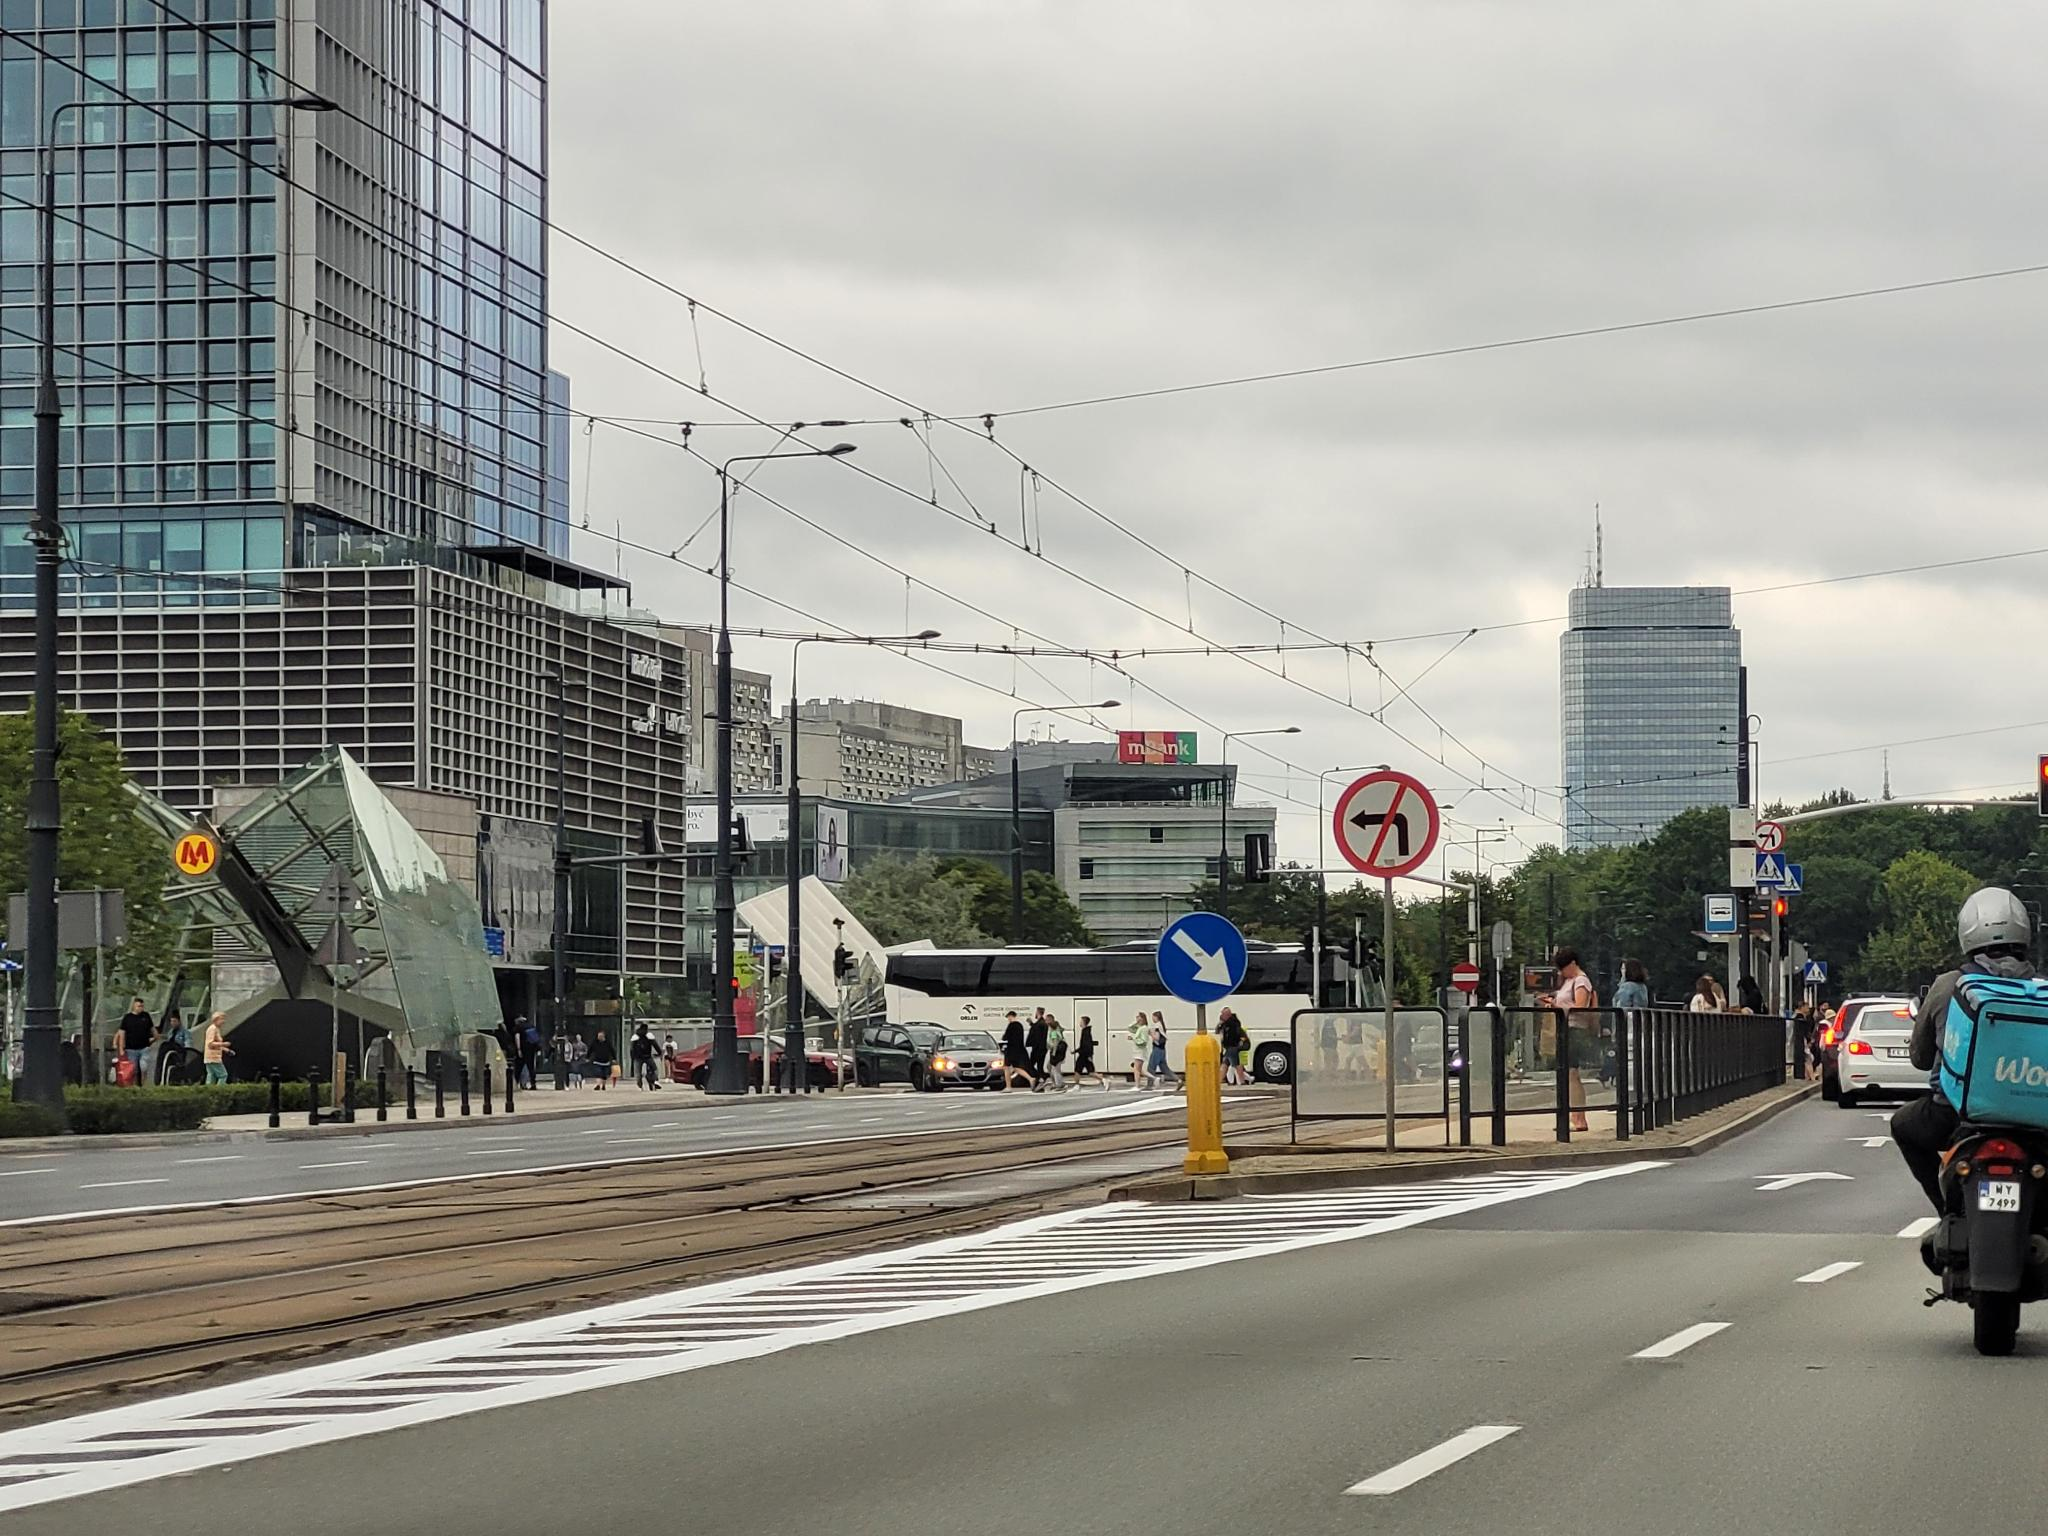information: (1706, 895, 1735, 931), (1772, 865, 1801, 894), (1758, 855, 1785, 884), (1806, 962, 1827, 983)
mandatory: (1156, 912, 1248, 1005)
prohibitory: (1332, 770, 1440, 878), (1756, 821, 1785, 854), (1450, 963, 1479, 991)
